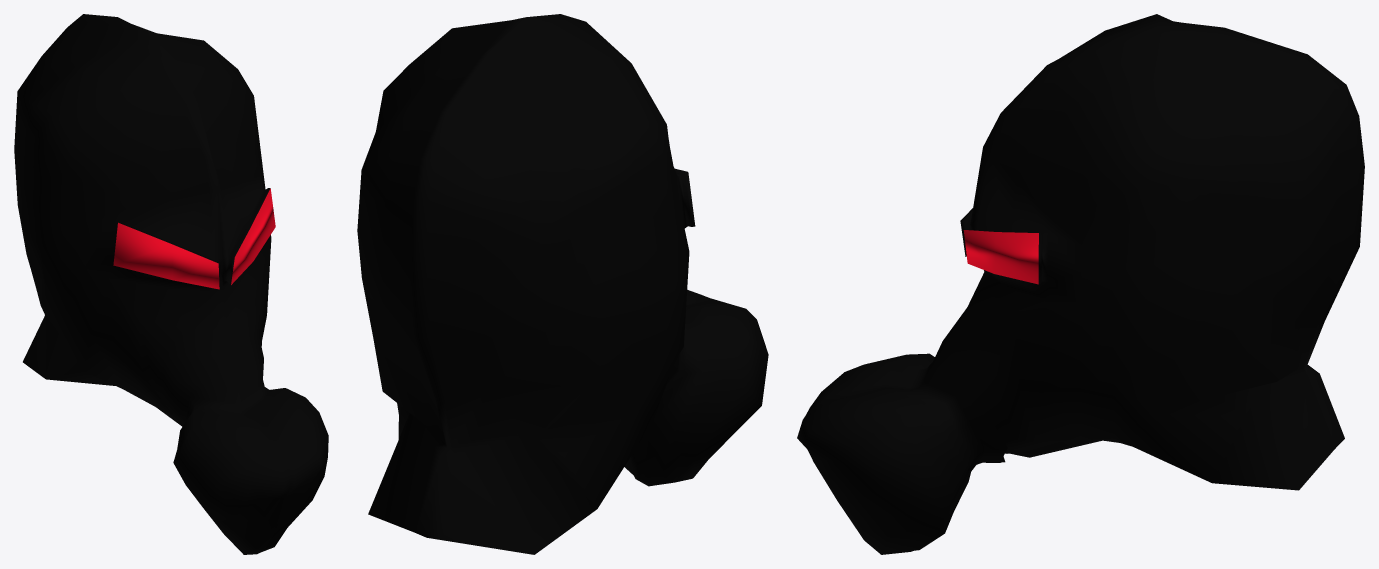
Rendered from Mask.fbx.
3 views of the same model, side by side, from view 1: azimuth 30°, elevation 25°; view 2: azimuth 150°, elevation 25°; view 3: azimuth 270°, elevation 25° (orthographic). The views are drawn at different scales.
Visible parts, largest first — view 1: Plane.002; view 2: Plane.002; view 3: Plane.002.
Boxes of the visible parts, left/top/right/bottom form: Plane.002: left=14, top=14, right=328, bottom=554; Plane.002: left=357, top=14, right=768, bottom=554; Plane.002: left=797, top=14, right=1364, bottom=554.
Bounding box in the file's own units: 20.92 × 39.91 × 38.51.
